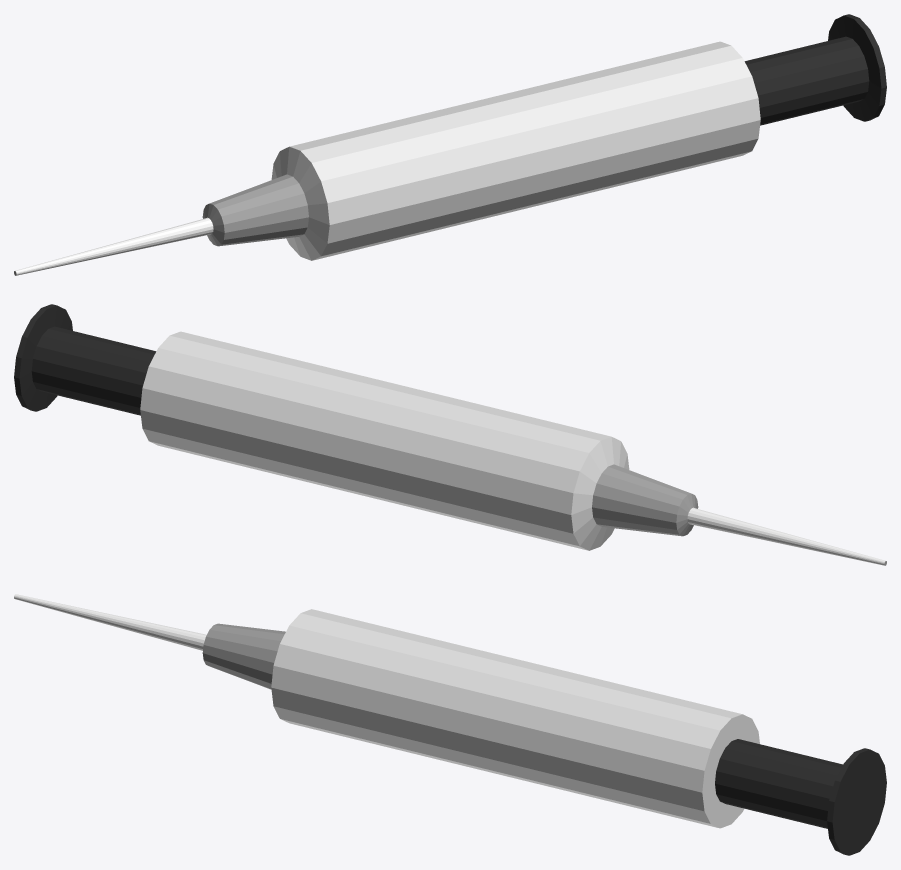
The model's file is Needle.fbx.
3 views of the same model, one above another, from view 1: azimuth 30°, elevation 25°; view 2: azimuth 150°, elevation 25°; view 3: azimuth 330°, elevation 25° (orthographic).
Visible parts, largest first — view 1: Needle; view 2: Needle; view 3: Needle.
Boxes of the visible parts, <box> form: Needle: <box>14,14,886,275</box>; Needle: <box>14,304,886,565</box>; Needle: <box>14,594,886,855</box>.
Size of the model in its own units: 26.31 by 3.15 by 3.15.
